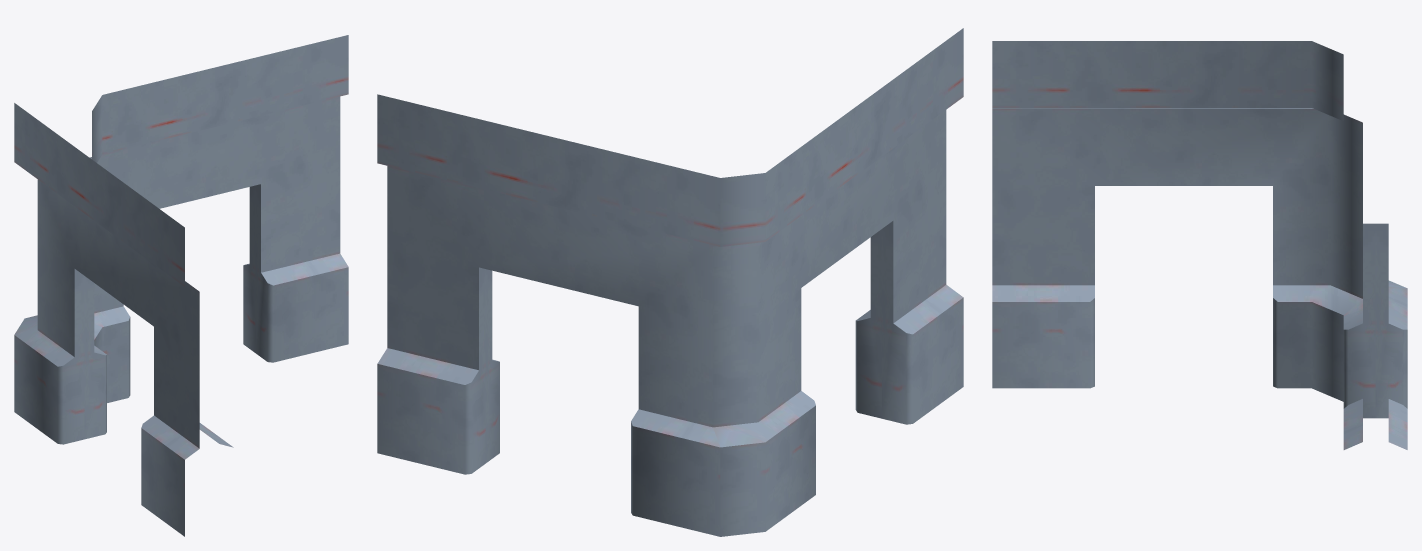
The model's file is Wall_DoorCorner_C_1.glb.
The picture shows the model from 3 angles, left to right: view 1: azimuth 30°, elevation 25°; view 2: azimuth 150°, elevation 25°; view 3: azimuth 270°, elevation 25°; orthographic projection. The views are drawn at different scales.
Visible parts, largest first — view 1: Wall_DoorCorner_C_1; view 2: Wall_DoorCorner_C_1; view 3: Wall_DoorCorner_C_1.
Part boxes in pixels (x1,y1,x2,y2): Wall_DoorCorner_C_1: [14, 35, 348, 536]; Wall_DoorCorner_C_1: [377, 28, 963, 536]; Wall_DoorCorner_C_1: [992, 41, 1407, 449].
Bounding box in the file's own units: 6.5 × 6 × 6.5.
1 material, 1 textured.
